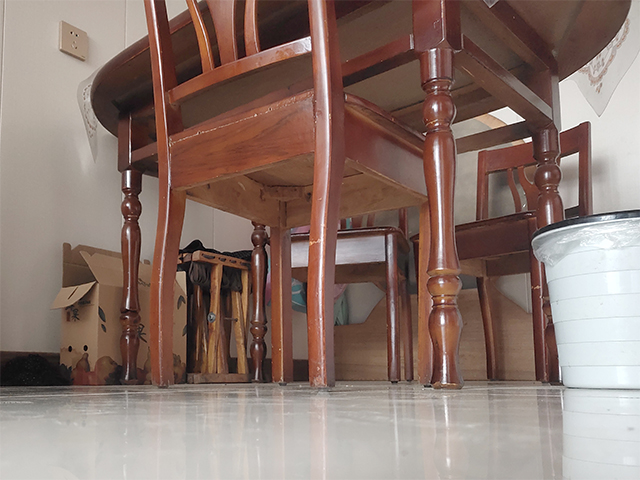stool: (131, 1, 418, 392), (452, 116, 592, 387), (178, 238, 252, 385)
table: (90, 1, 633, 393)
trashcan: (528, 208, 640, 390)
